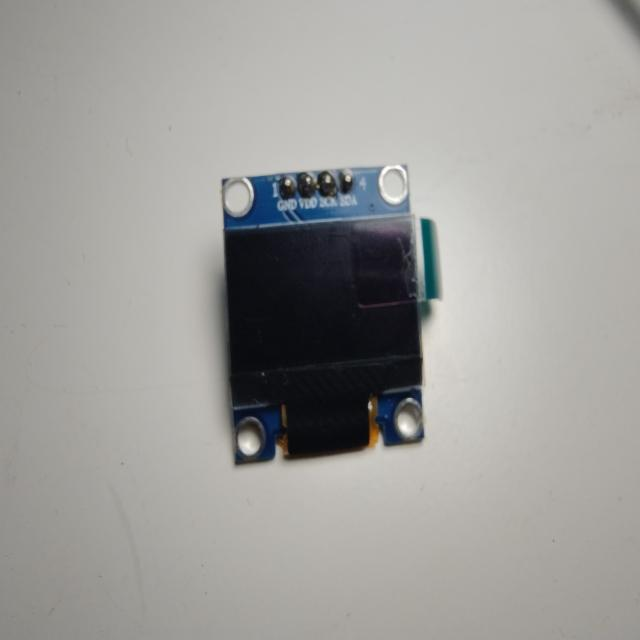oled: (214, 152, 452, 482)
